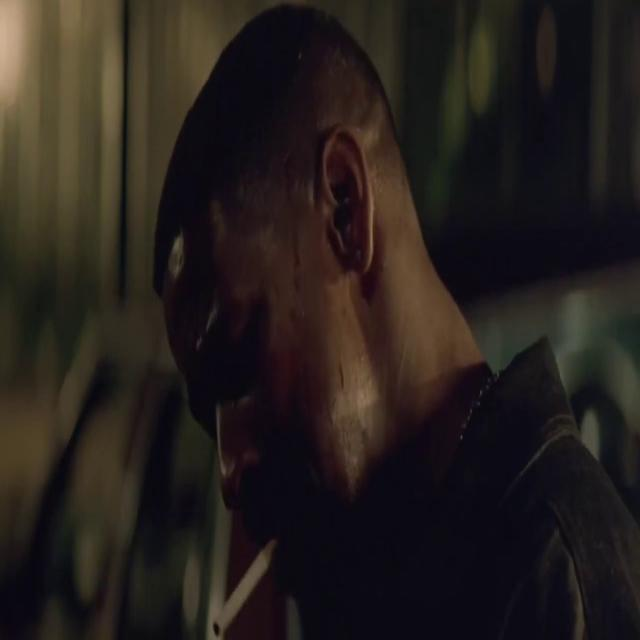Smooking: (201, 510, 297, 640)
